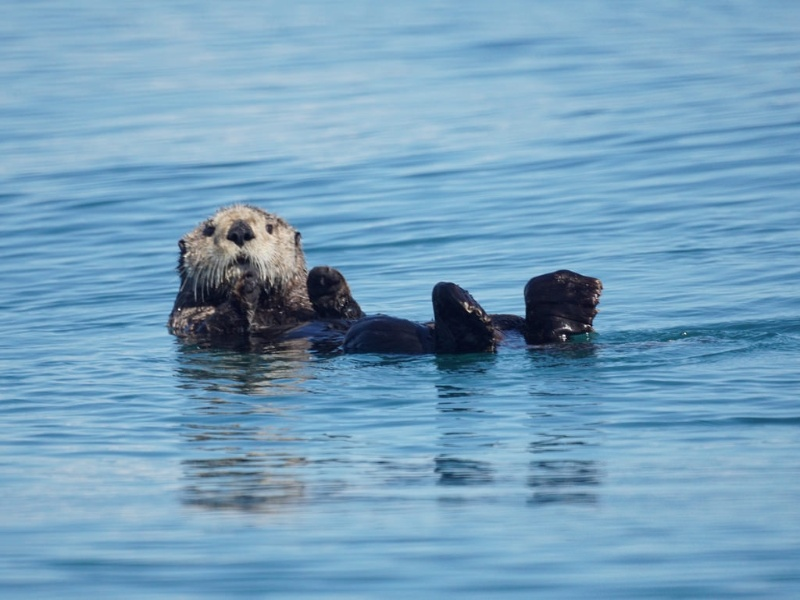minkish: (166, 199, 608, 367)
